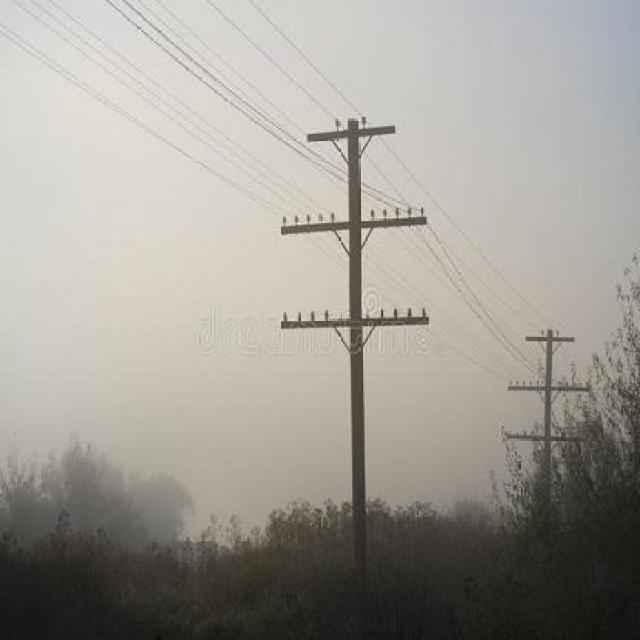pole: (269, 111, 440, 558)
